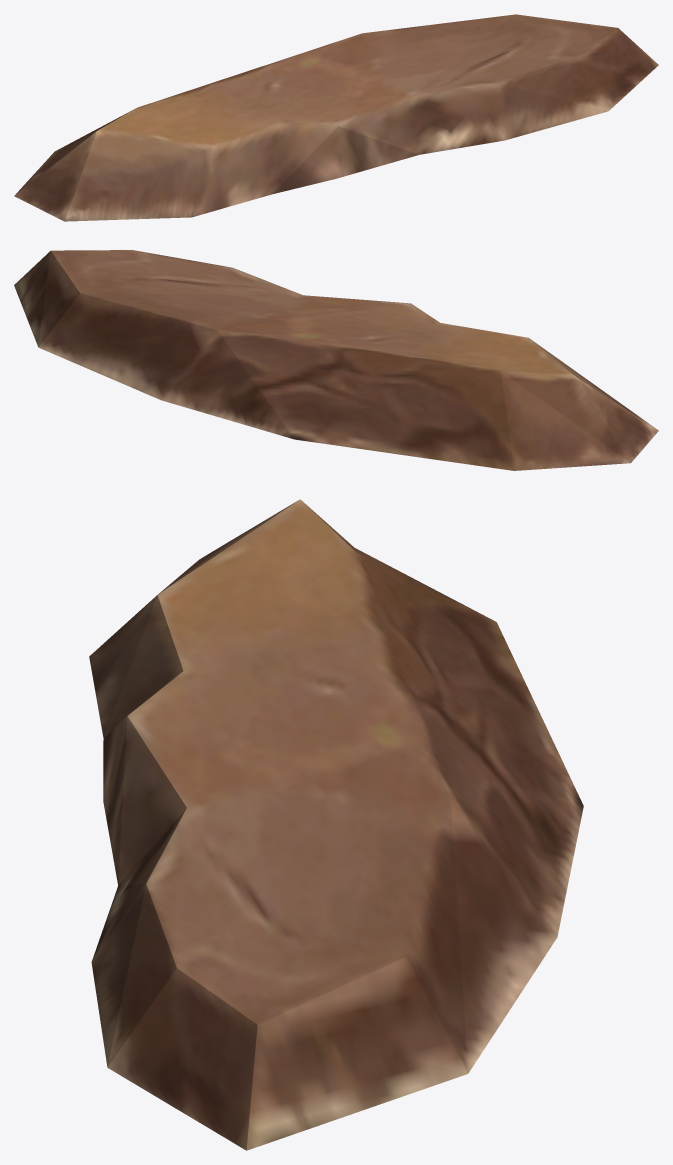
File: FB5_shiban01.FBX
3 renders of one model, top to bottom at view 1: azimuth 30°, elevation 25°; view 2: azimuth 150°, elevation 25°; view 3: azimuth 270°, elevation 25°, orthographic. The views are drawn at different scales.
Parts seen in each view (by area): view 1: FB5_shiban01; view 2: FB5_shiban01; view 3: FB5_shiban01.
Part boxes in pixels (x1,y1,x2,y2): FB5_shiban01: [14, 14, 658, 221]; FB5_shiban01: [14, 250, 658, 470]; FB5_shiban01: [89, 499, 583, 1150].
Size of the model in its own units: 582 by 52.27 by 202.
Materials: 1 (1 with a texture image).
